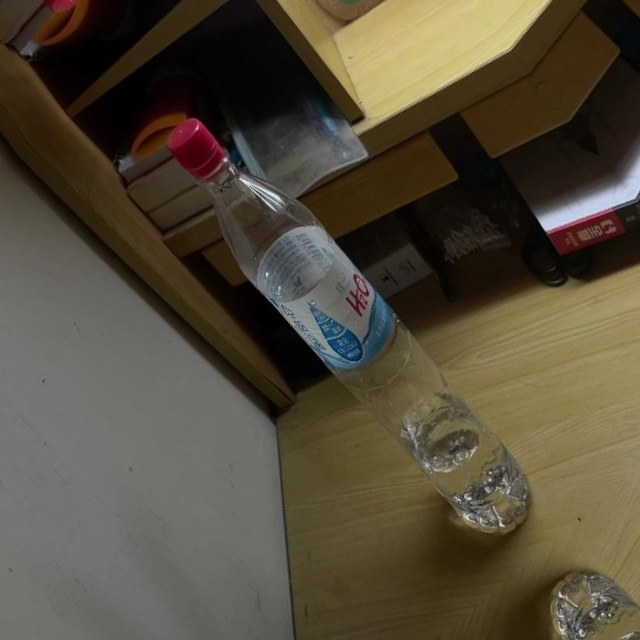Water: (146, 97, 552, 556)
